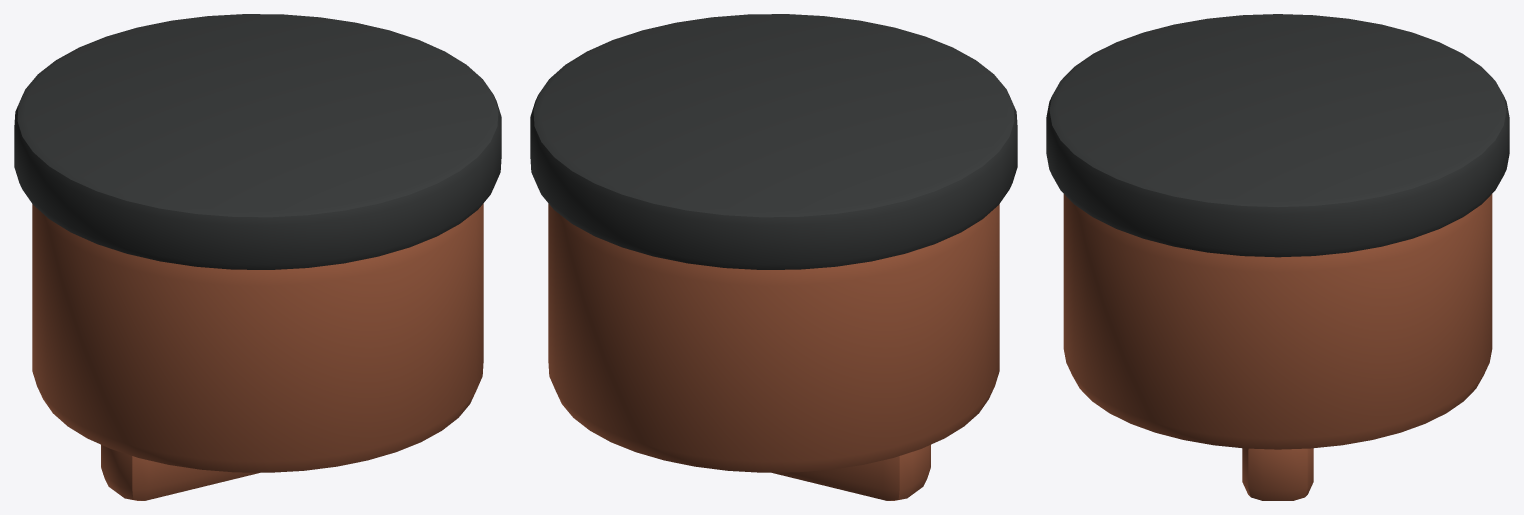
The model's file is freestanding_cooker_rear_left_hob_dial.glb.
3 renders of one model, left to right at view 1: azimuth 30°, elevation 25°; view 2: azimuth 150°, elevation 25°; view 3: azimuth 270°, elevation 25°, orthographic. The views are drawn at different scales.
Visible parts, largest first — view 1: freestanding_cooker_rear_left_hob_dial_x; view 2: freestanding_cooker_rear_left_hob_dial_x; view 3: freestanding_cooker_rear_left_hob_dial_x.
Part boxes in pixels (left/top/right/bottom): freestanding_cooker_rear_left_hob_dial_x: left=14, top=14, right=501, bottom=500; freestanding_cooker_rear_left_hob_dial_x: left=530, top=14, right=1017, bottom=500; freestanding_cooker_rear_left_hob_dial_x: left=1046, top=14, right=1509, bottom=500.
Bounding box in the file's own units: 0.0454 × 0.036 × 0.0454.
